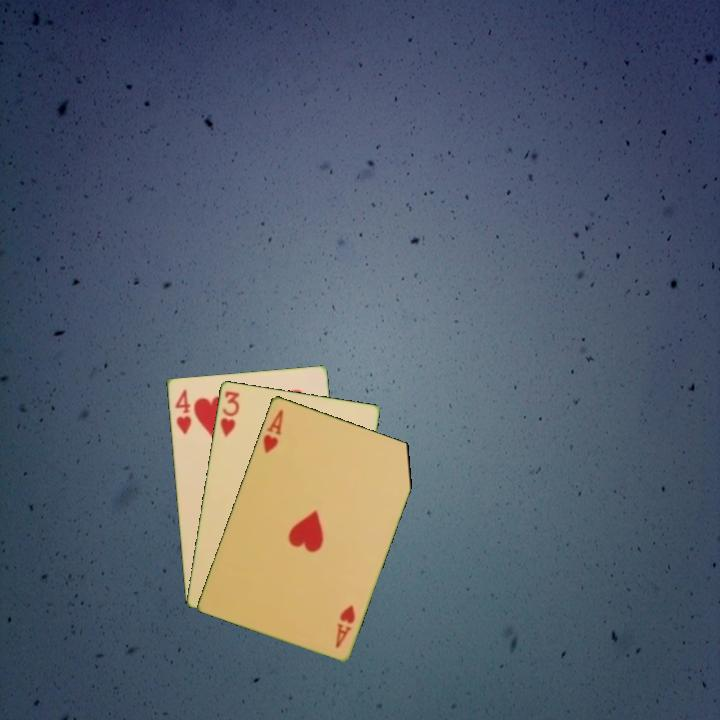3h: (216, 387, 242, 439)
4h: (171, 385, 194, 437)
Ah: (259, 405, 286, 456), (331, 601, 358, 651)
